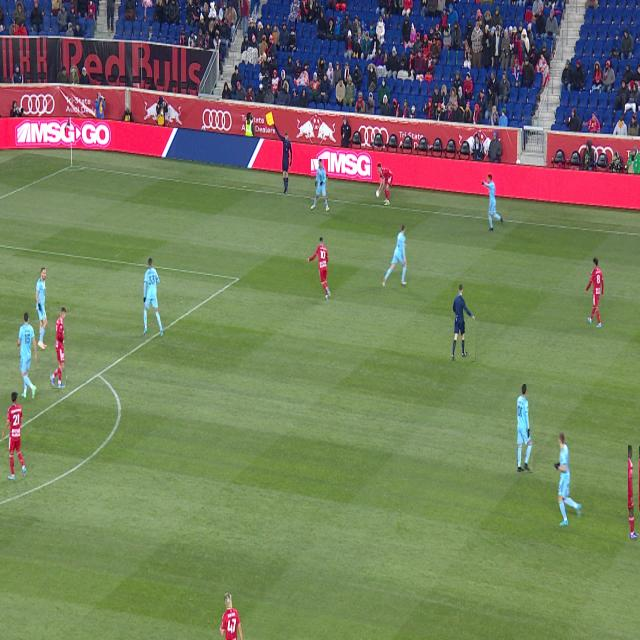player: (554, 432, 582, 526), (2, 392, 26, 479), (17, 312, 37, 399), (143, 258, 163, 336), (382, 225, 407, 287), (308, 237, 331, 301), (517, 384, 533, 472), (586, 258, 604, 328), (481, 174, 503, 231), (51, 307, 66, 388), (628, 446, 640, 539), (220, 593, 243, 640), (35, 268, 48, 350), (312, 160, 328, 212)
referee: (452, 284, 475, 361)
